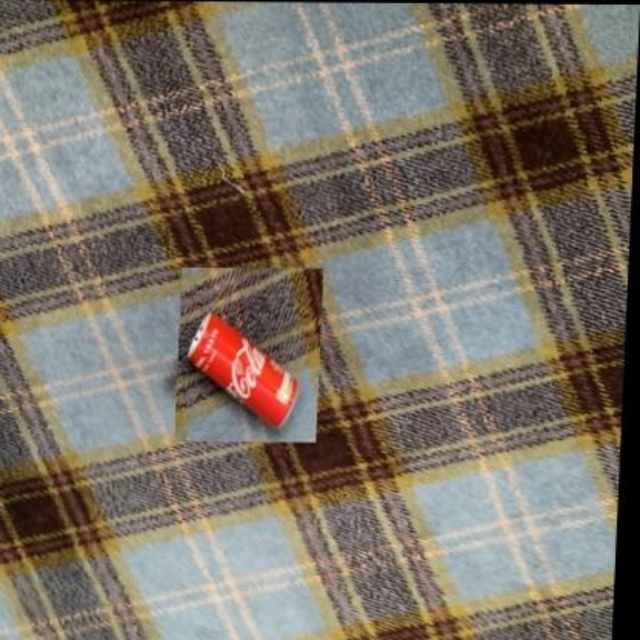trash: (188, 312, 295, 426)
